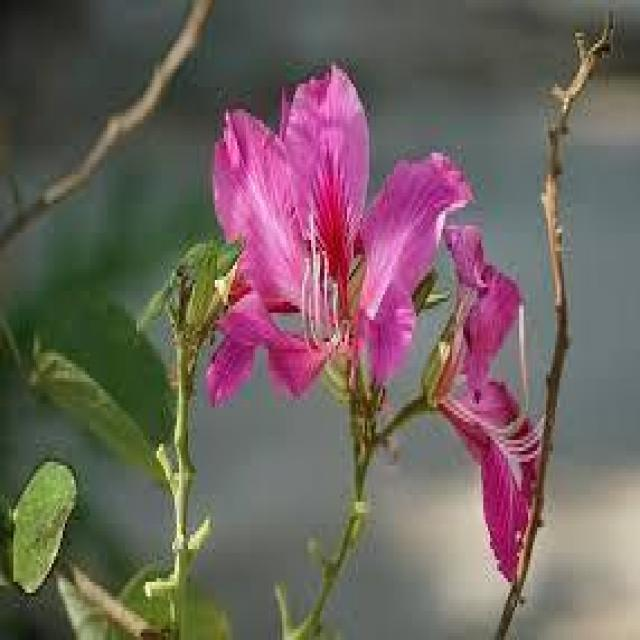organic waste: (205, 83, 440, 414), (431, 228, 558, 588)
